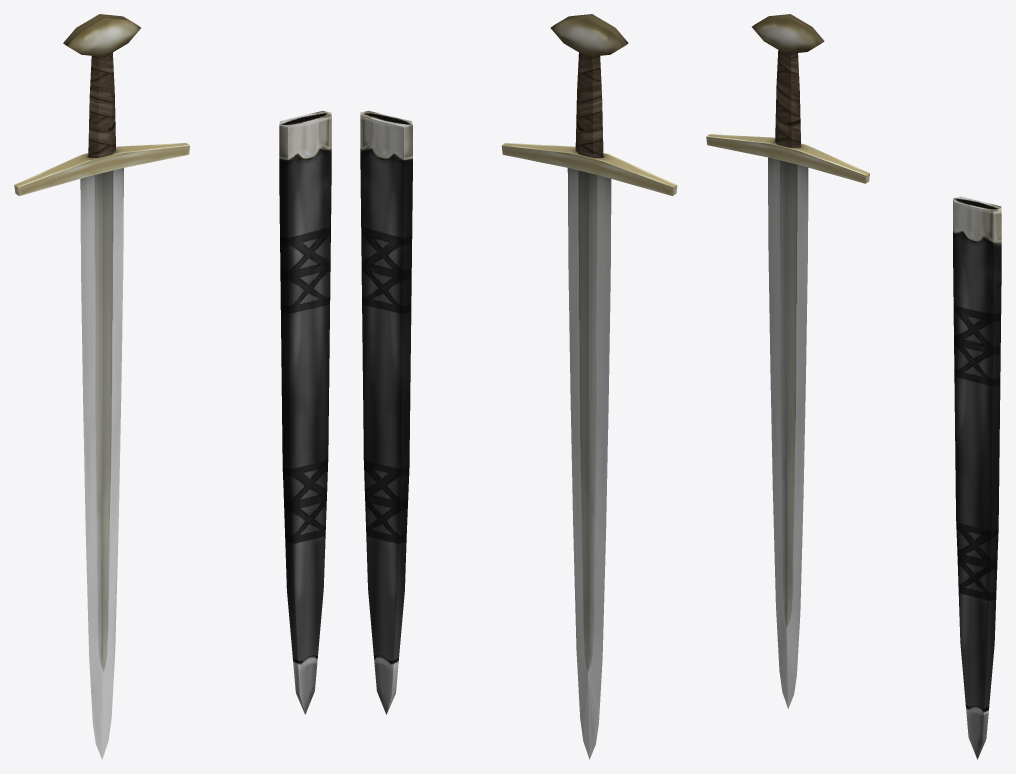
The model's file is broadsword3.FBX.
3 views of the same model, side by side, from view 1: azimuth 30°, elevation 25°; view 2: azimuth 150°, elevation 25°; view 3: azimuth 330°, elevation 25° (orthographic). The views are drawn at different scales.
Parts seen in each view (by area): view 1: Broadsword3; view 2: Broadsword3; view 3: Broadsword3.
Part boxes in pixels (<box>): Broadsword3: <box>14,14,331,759</box>; Broadsword3: <box>360,14,677,759</box>; Broadsword3: <box>706,14,1001,759</box>.
Size of the model in its own units: 28.52 by 64.71 by 2.15.
